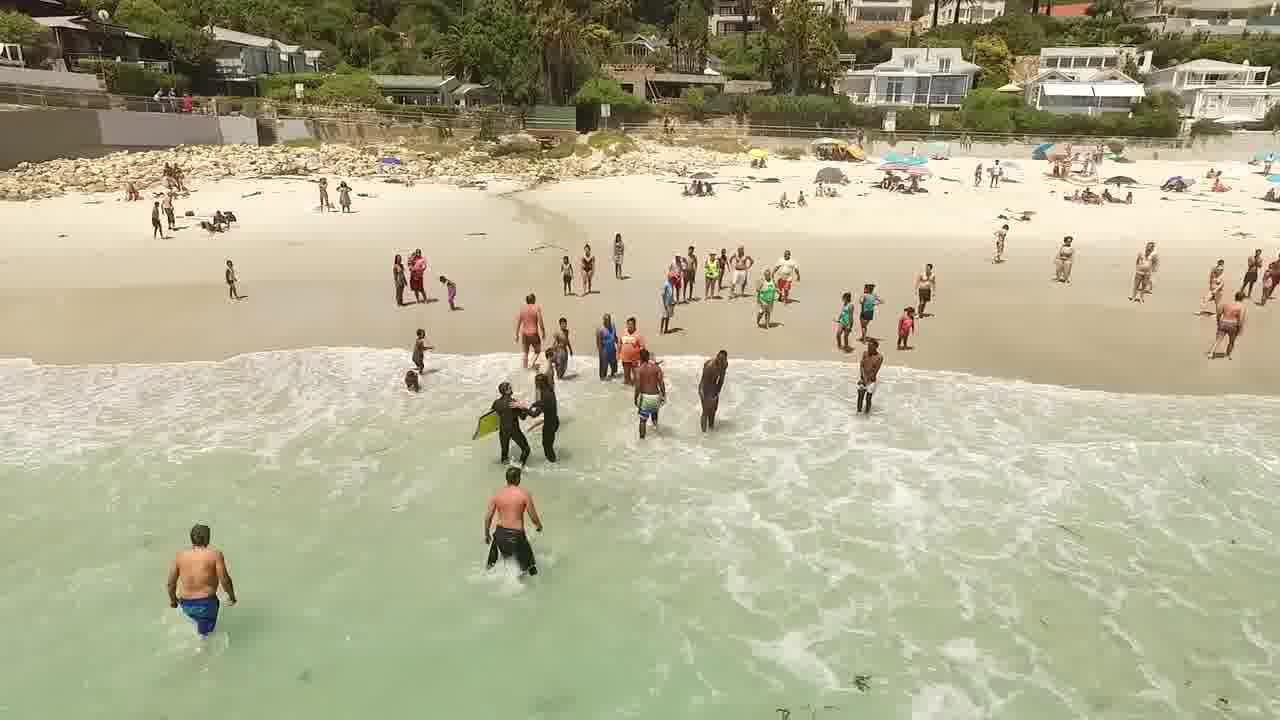swimmer: (165, 513, 254, 626), (479, 470, 549, 571), (528, 368, 578, 462), (693, 340, 749, 422), (630, 352, 677, 429), (850, 342, 900, 413), (493, 377, 527, 463), (512, 288, 548, 358), (599, 307, 623, 386), (1219, 300, 1240, 366), (624, 312, 649, 358)
